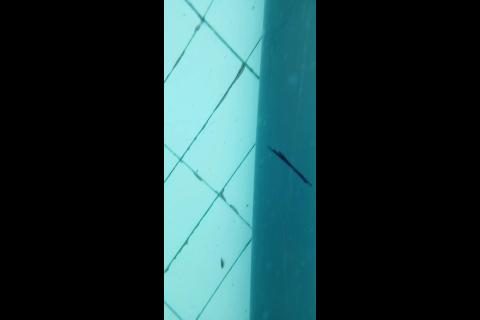keretakan: (268, 147, 311, 186)
